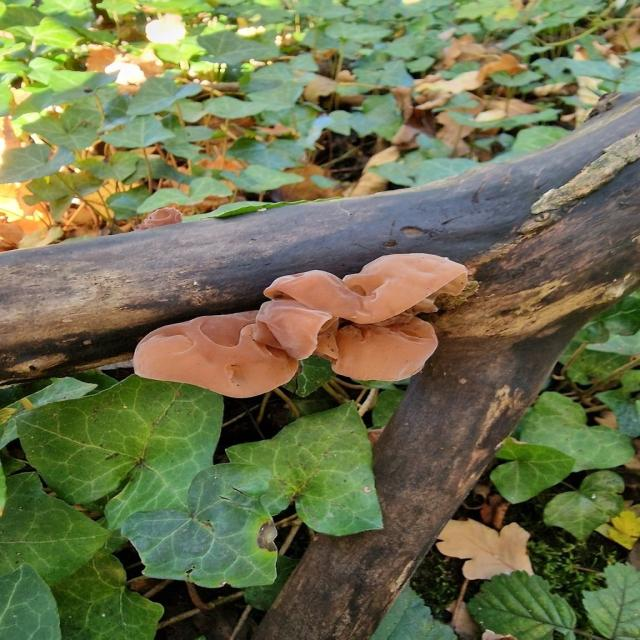Fase Muda: (118, 303, 305, 409), (258, 252, 475, 328), (340, 312, 448, 396), (260, 302, 332, 364)
